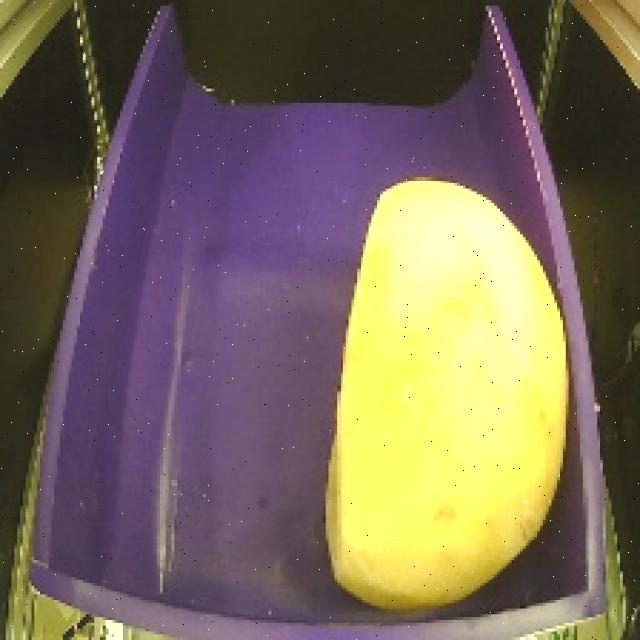full_potato: (311, 169, 588, 622)
